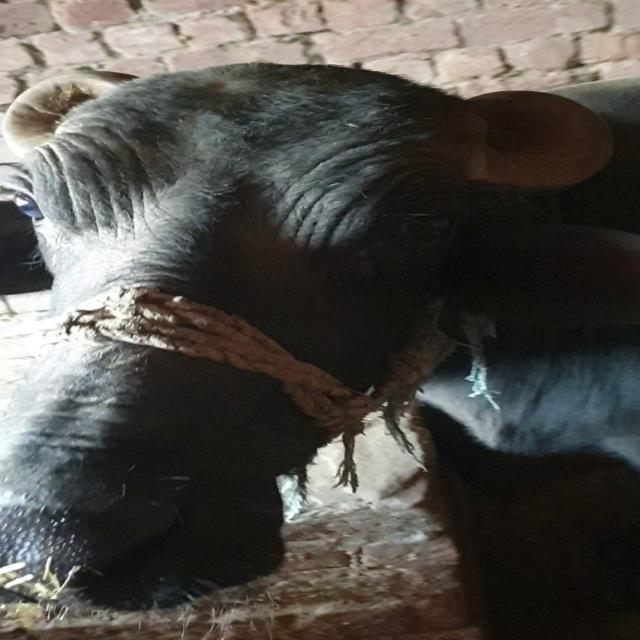cowFace: (0, 73, 481, 595)
